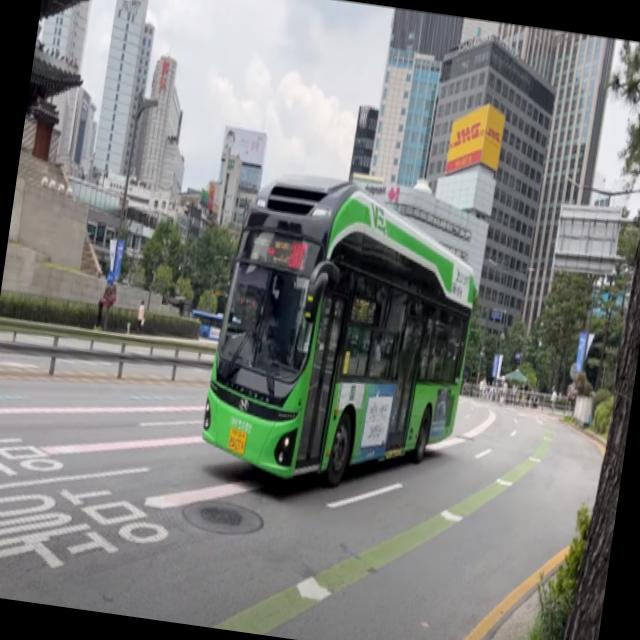bus-number: (286, 239, 310, 272)
